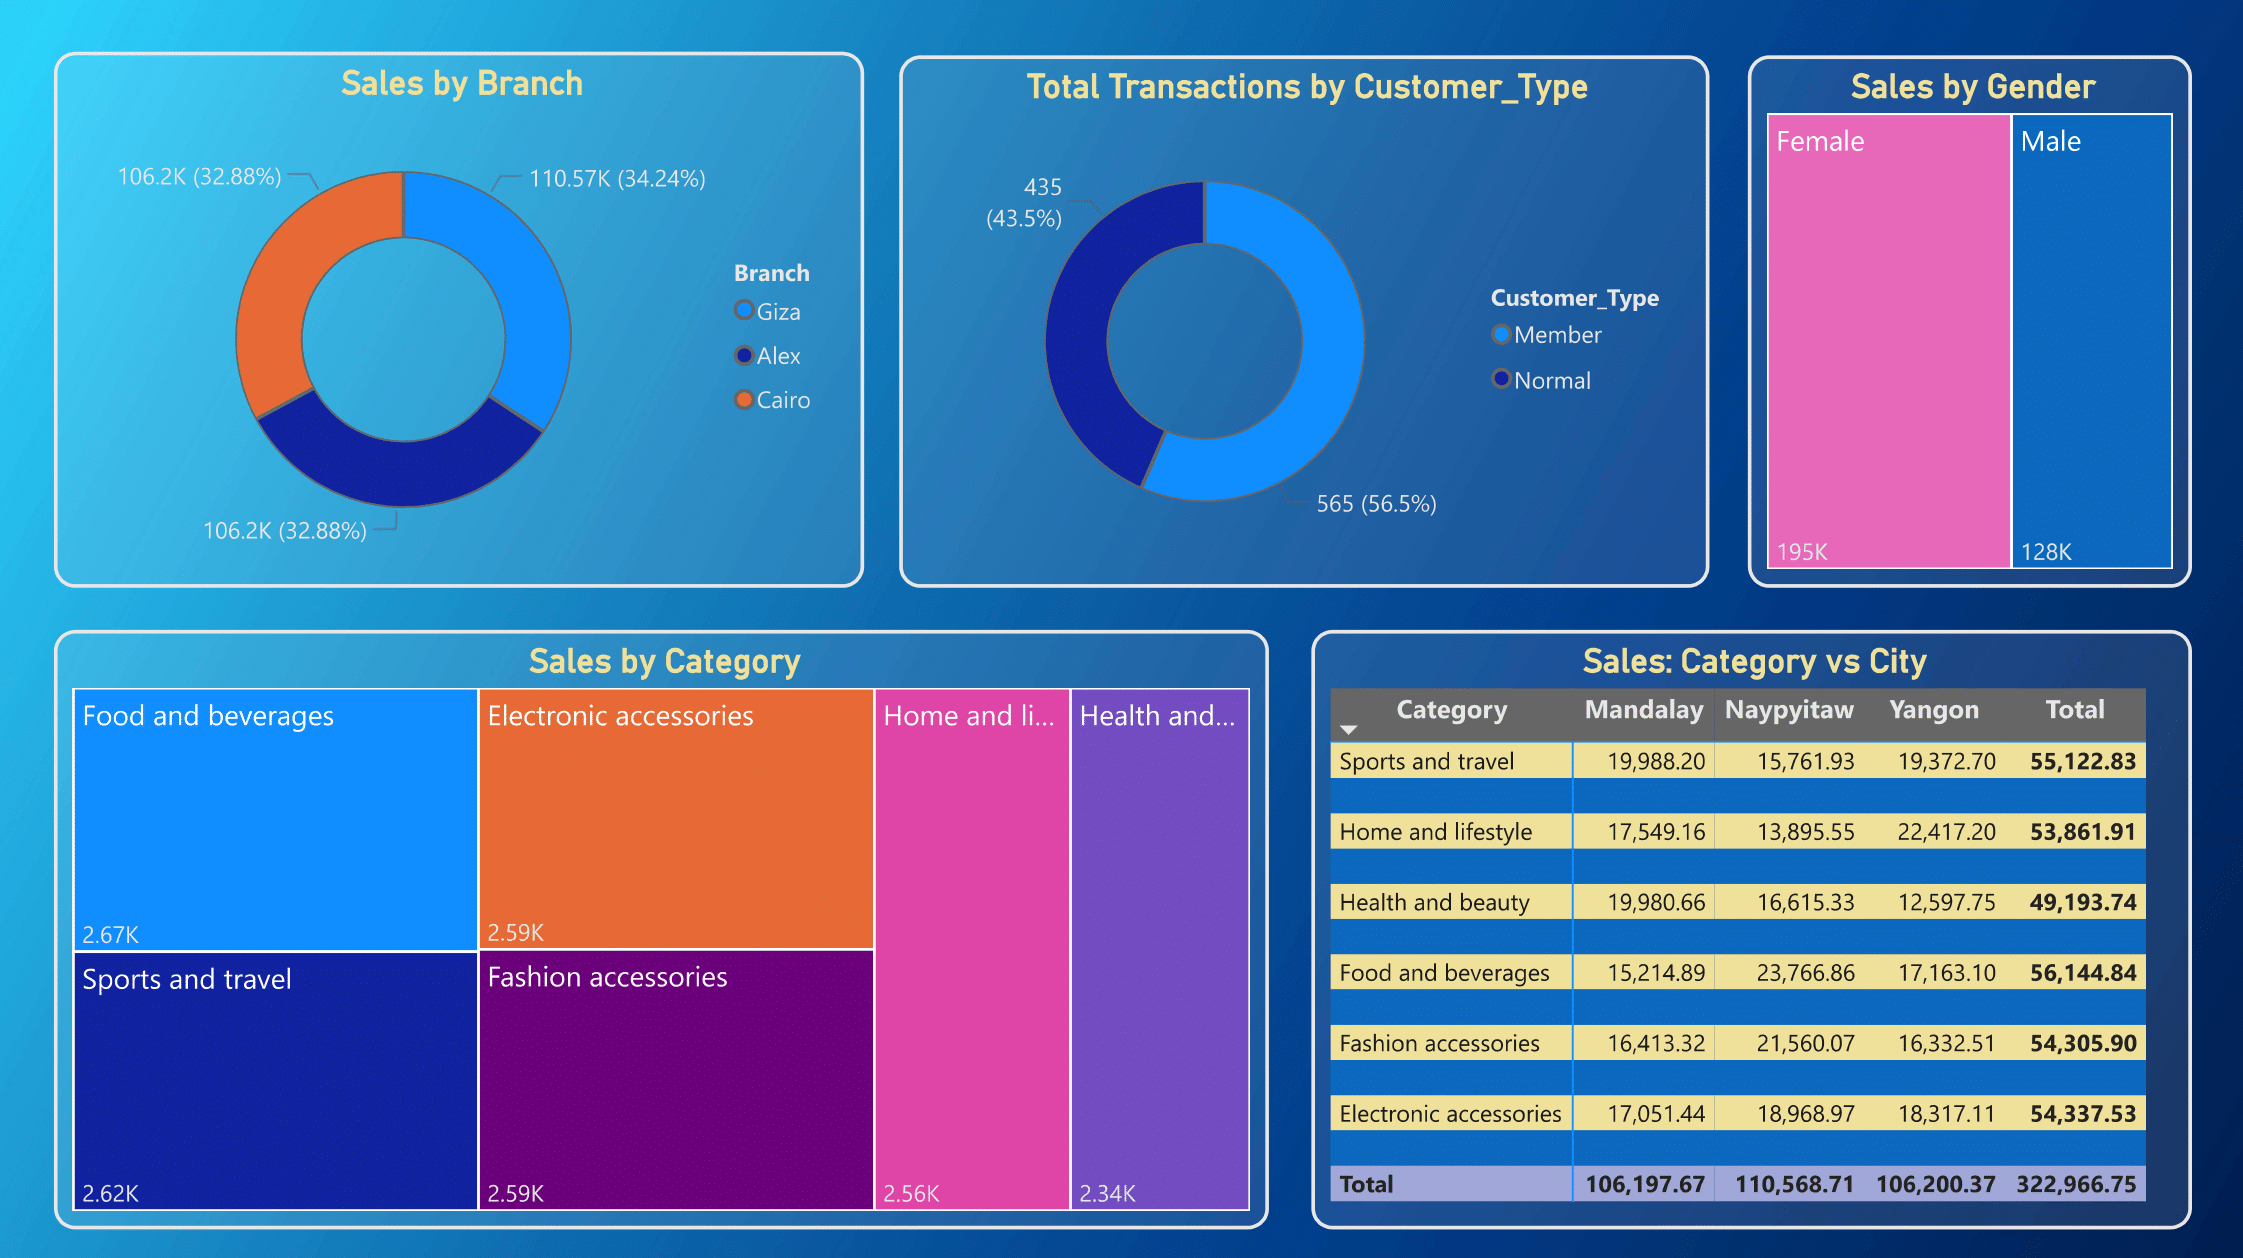

This screenshot's page, from the dashboard's own definition file:
{"tool":"powerbi","page":{"name":"Customer and Product Insights","canvas":[1280,720],"ordinal":2},"visuals":[{"type":"donutChart","title":"Sales by Branch","fields":{"Y":["Sum(SuperMarket Analysis.Total_Amount)"],"Category":["SuperMarket Analysis.Branch"]},"box":[32,32,460,304],"z":0},{"type":"treemap","title":"Sales by Category","fields":{"Group":["SuperMarket Analysis.Category"],"Values":["Sum(SuperMarket Analysis.Profit)"]},"box":[32,360,690,340],"z":1000},{"type":"donutChart","title":"Total Transactions by Customer_Type","fields":{"Category":["SuperMarket Analysis.Customer_Type"],"Y":["SuperMarket Analysis.Total_Transactions"]},"box":[512,34,460,302],"z":2000},{"type":"pivotTable","title":"Sales: Category vs City","fields":{"Values":["Sum(SuperMarket Analysis.Total_Amount)"],"Columns":["SuperMarket Analysis.City"],"Rows":["SuperMarket Analysis.Category"]},"box":[746,360,500,340],"z":3000},{"type":"treemap","title":"Sales by Gender","fields":{"Group":["SuperMarket Analysis.Gender"],"Values":["Sum(SuperMarket Analysis.Total_Amount)"]},"box":[994,34,252,302],"z":4000}]}

Visuals, with their boxes in screenshot pixels (x1, y1, x2, y2), scaled from the page's 1280x720 canvas onto the 2243x1258 screenshot:
"Sales by Branch" donutChart: [56,56,862,587]
"Sales by Category" treemap: [56,629,1265,1223]
"Total Transactions by Customer_Type" donutChart: [897,59,1703,587]
"Sales: Category vs City" pivotTable: [1307,629,2183,1223]
"Sales by Gender" treemap: [1742,59,2183,587]
